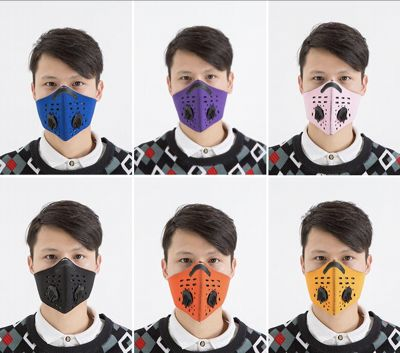with-mask: (291, 203, 378, 321), (155, 203, 238, 322), (21, 198, 105, 315), (26, 25, 108, 137), (293, 26, 370, 131), (165, 26, 237, 131)
